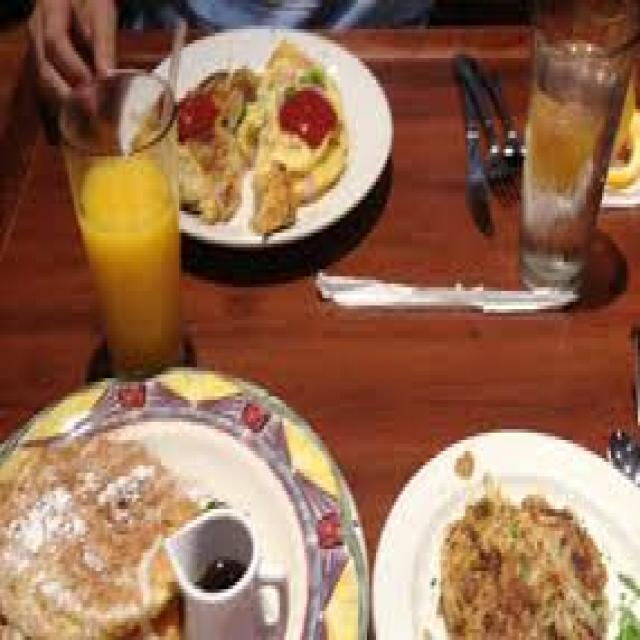Omelette: (150, 33, 342, 229), (434, 440, 616, 636)
Pancakes: (5, 410, 205, 640)
